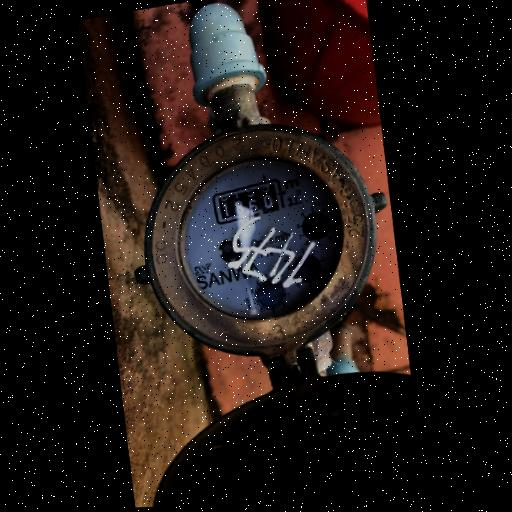0: (258, 184, 280, 214)
1: (218, 195, 236, 219)
5: (243, 188, 263, 214)
8: (231, 191, 249, 216)
border_water_meter_number: (211, 177, 287, 226)
